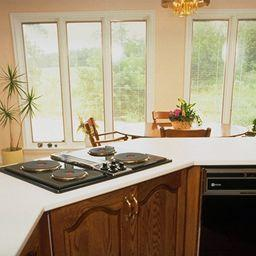Electrodomestico: (3, 139, 170, 197), (204, 169, 254, 255)
